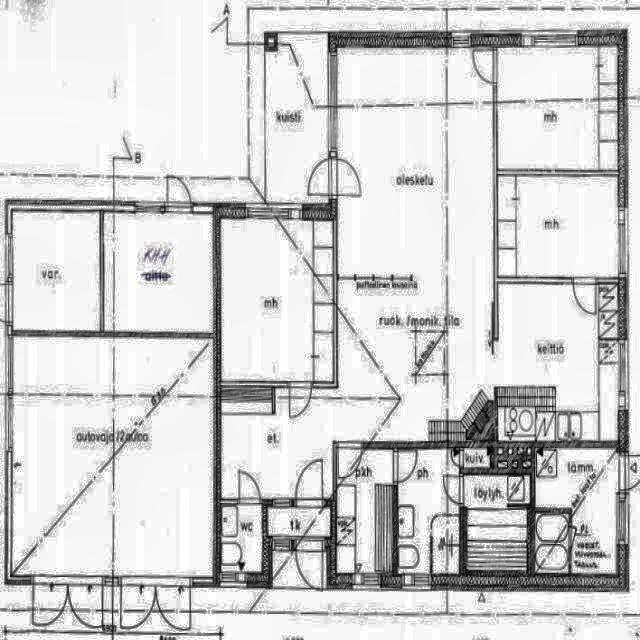room: (11, 338, 214, 576), (221, 219, 333, 381), (497, 46, 618, 170), (104, 213, 214, 333), (497, 175, 619, 278), (13, 211, 100, 331), (535, 448, 617, 575), (398, 448, 459, 574), (335, 448, 394, 575), (221, 505, 262, 573)
